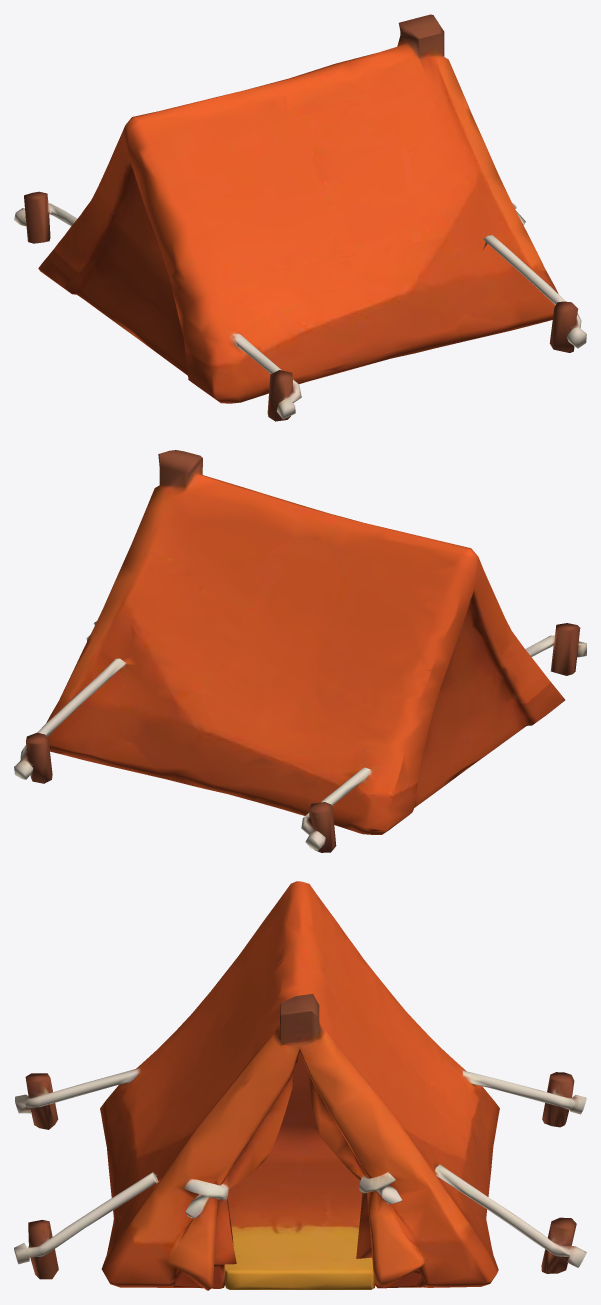
The model's file is tent.glb.
3 renders of one model, top to bottom at view 1: azimuth 30°, elevation 25°; view 2: azimuth 150°, elevation 25°; view 3: azimuth 270°, elevation 25°, orthographic. The views are drawn at different scales.
Parts seen in each view (by area): view 1: tripo_node_de0ef07a-3ae3-4480-8134-4c62dfaa2aa0; view 2: tripo_node_de0ef07a-3ae3-4480-8134-4c62dfaa2aa0; view 3: tripo_node_de0ef07a-3ae3-4480-8134-4c62dfaa2aa0.
Part boxes in pixels (<box>): tripo_node_de0ef07a-3ae3-4480-8134-4c62dfaa2aa0: <box>14,14,586,421</box>; tripo_node_de0ef07a-3ae3-4480-8134-4c62dfaa2aa0: <box>14,450,586,852</box>; tripo_node_de0ef07a-3ae3-4480-8134-4c62dfaa2aa0: <box>14,881,586,1290</box>.
Bounding box in the file's own units: 0.779 × 0.5084 × 1.
1 material, 1 textured.
